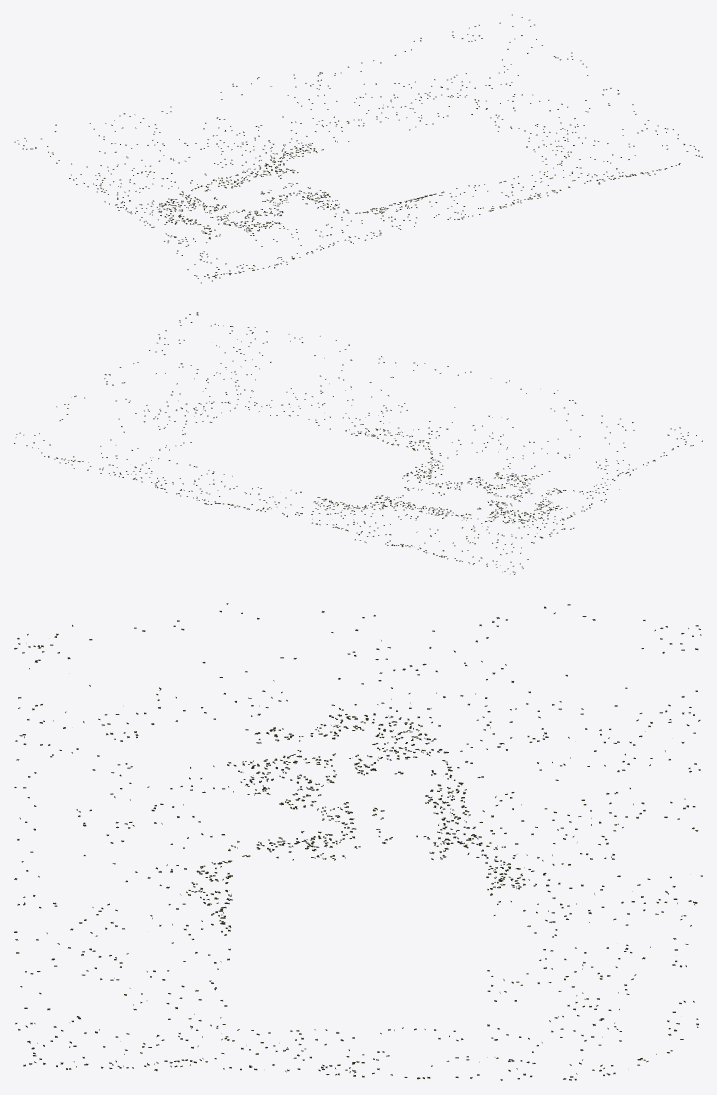
Rendered from SM_Art_Cover_L_FalseBearings_HeatherSprig.gltf.
3 renders of one model, top to bottom at view 1: azimuth 30°, elevation 25°; view 2: azimuth 150°, elevation 25°; view 3: azimuth 270°, elevation 25°, orthographic. The views are drawn at different scales.
Parts seen in each view (by area): view 1: SM_Art_Cover_L_FalseBearings_HeatherSprig; view 2: SM_Art_Cover_L_FalseBearings_HeatherSprig; view 3: SM_Art_Cover_L_FalseBearings_HeatherSprig.
Boxes of the visible parts, x1,y1,x2,y2 form: SM_Art_Cover_L_FalseBearings_HeatherSprig: [14, 14, 702, 283]; SM_Art_Cover_L_FalseBearings_HeatherSprig: [14, 312, 702, 574]; SM_Art_Cover_L_FalseBearings_HeatherSprig: [14, 603, 702, 1080].
Bounding box in the file's own units: 294 × 23.74 × 193.
1 material, 1 textured.
